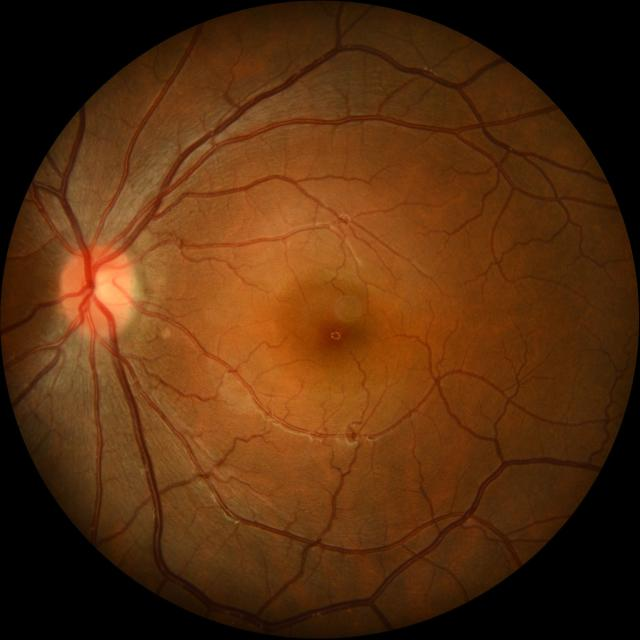OC: (93, 271, 115, 304)
OD: (60, 244, 134, 336)
